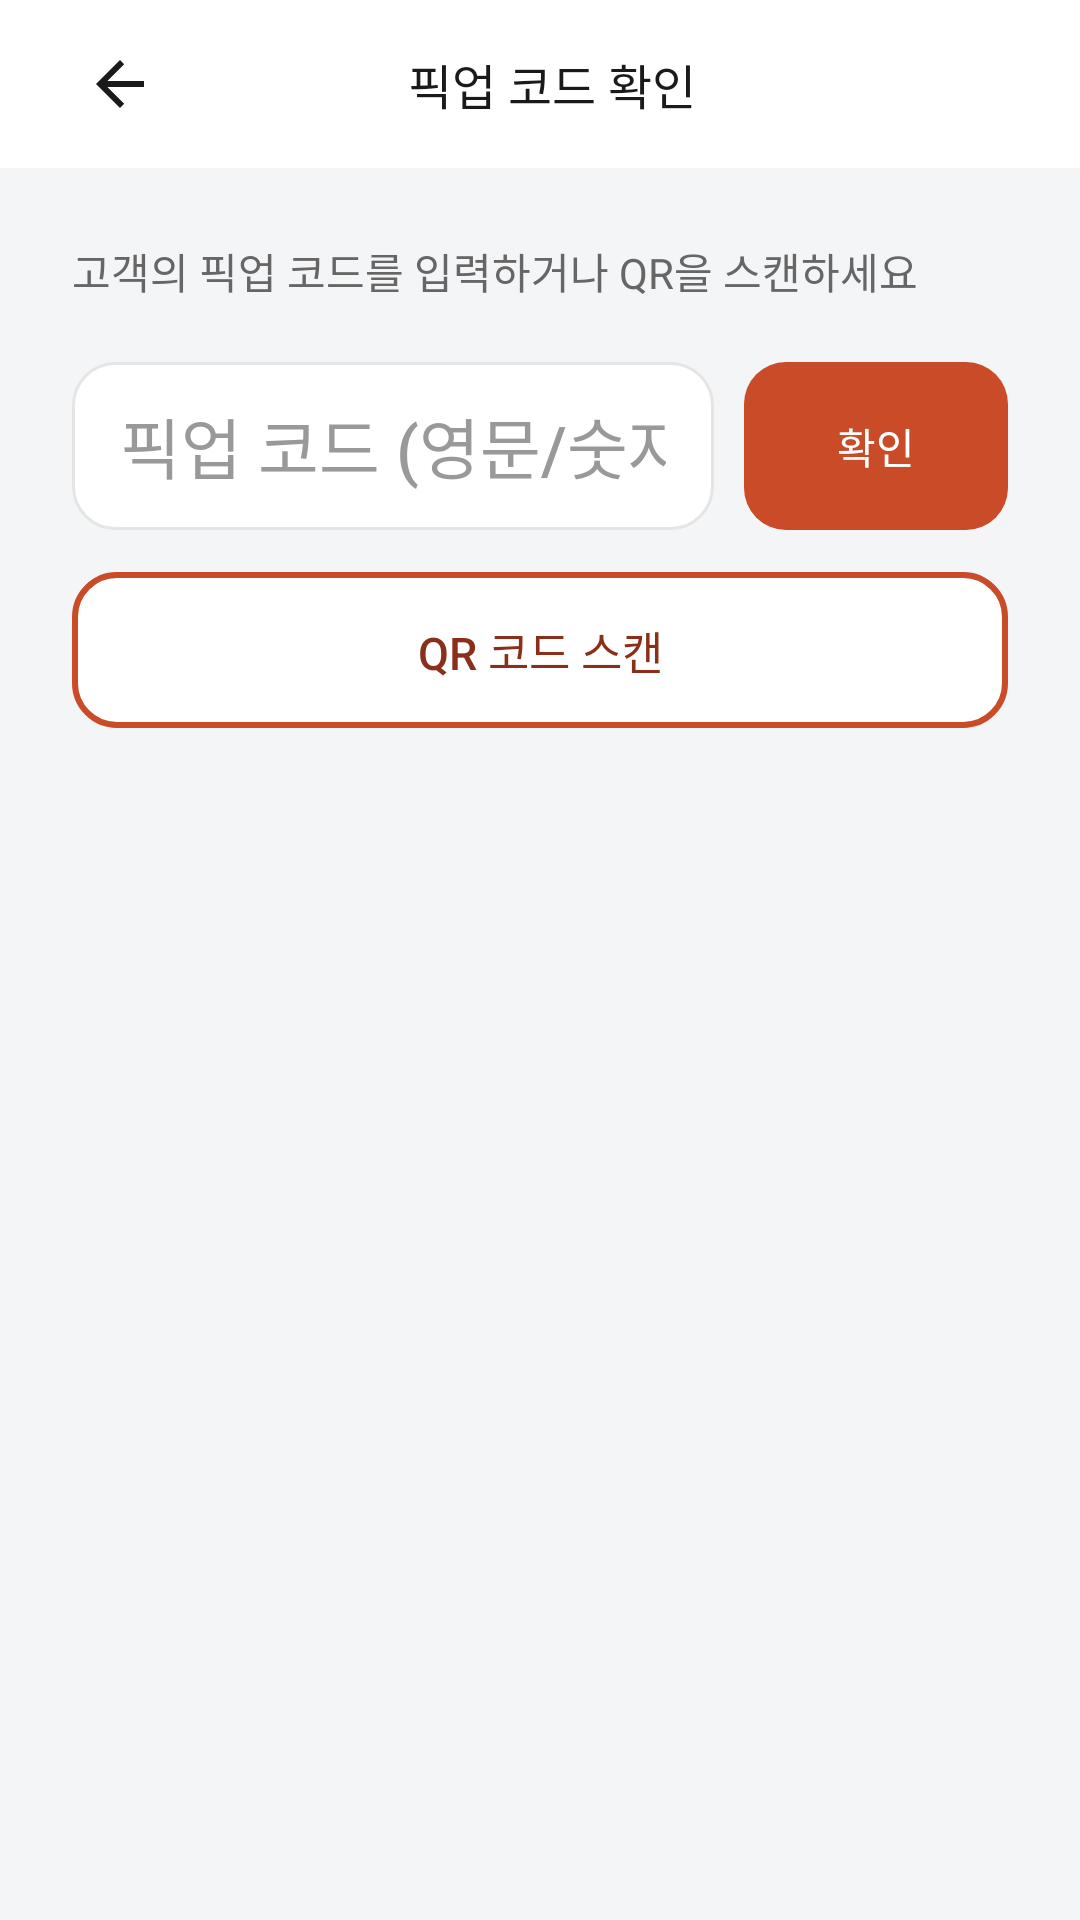

Icons on this 1080 × 1920 Android screen, each with its box as (x1, y1, x2, y2):
뒤로가기: (96, 60, 144, 108)
